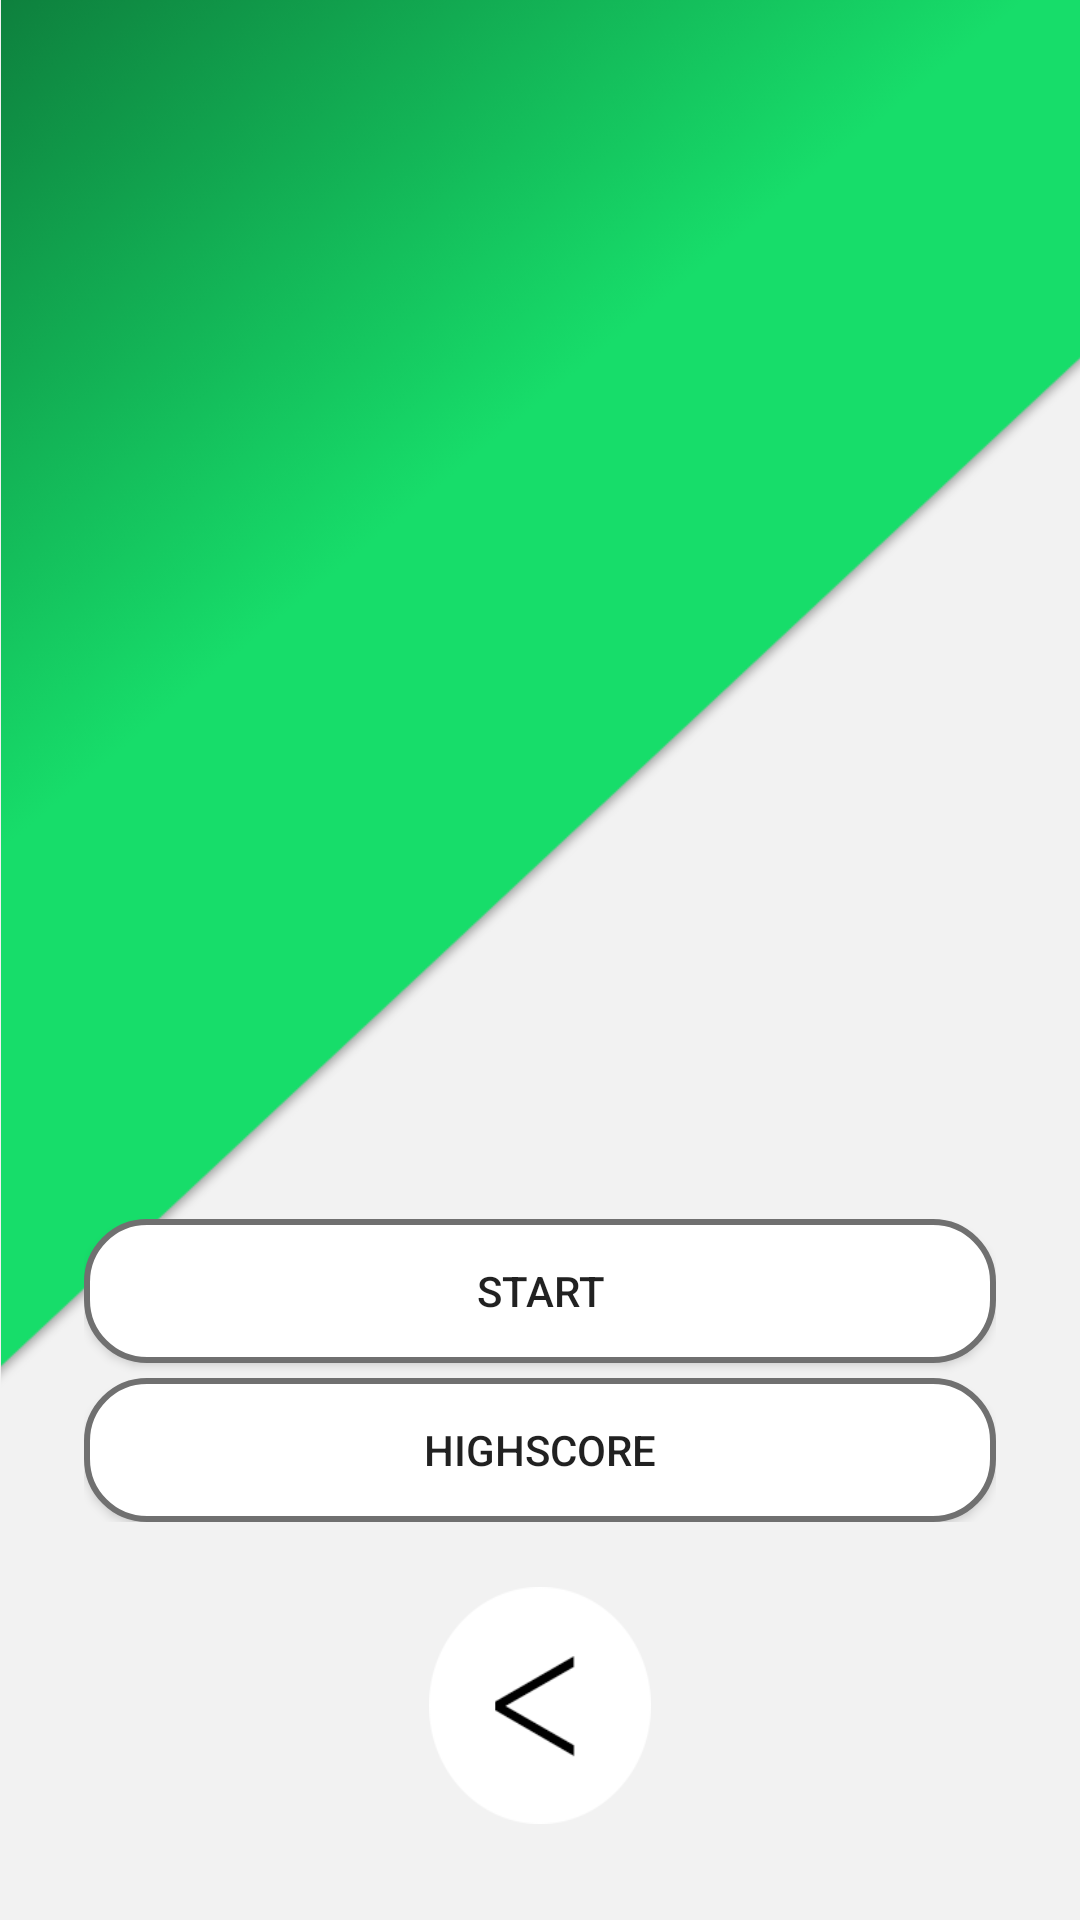

Screen size 1080x1920. Icon name, then its center in pixels as (x,y):
returnbutton: (540,1705)
